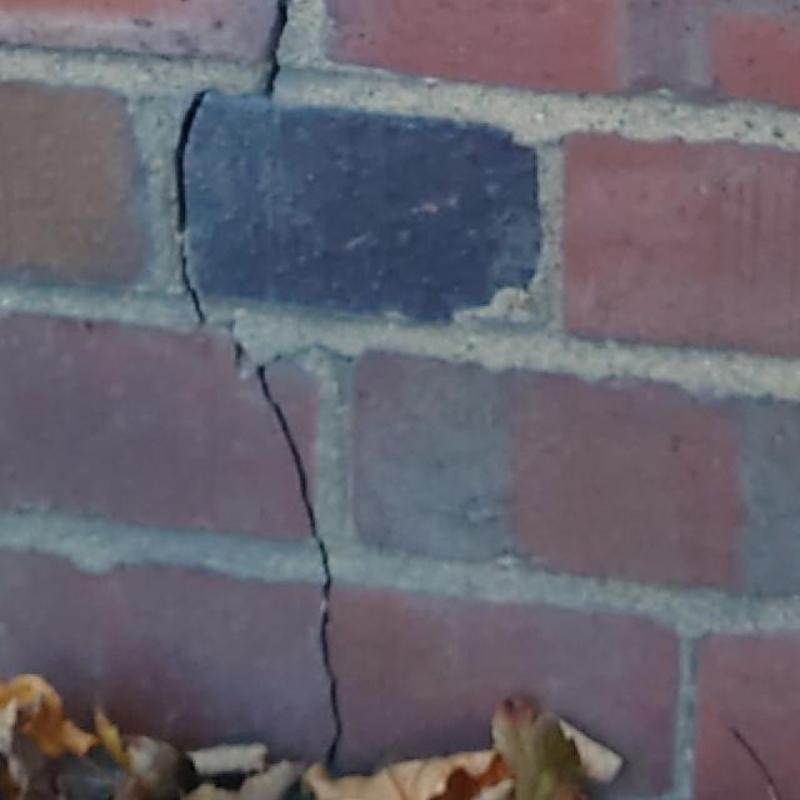pothole: (255, 364, 344, 769), (175, 91, 207, 325), (730, 727, 782, 800), (262, 0, 288, 98), (234, 341, 247, 366)
